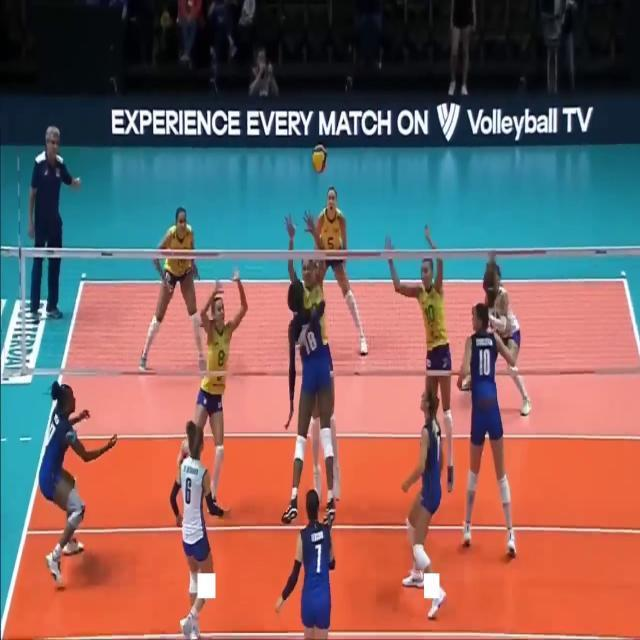volleyball: (312, 144, 328, 174)
